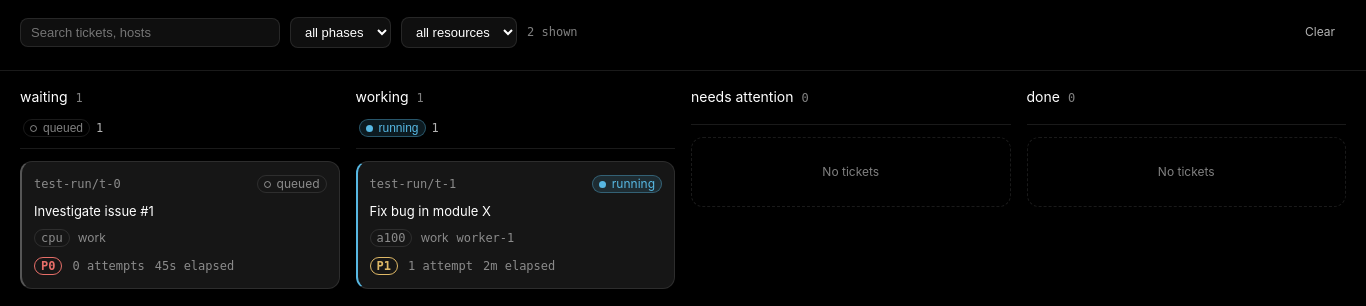
TicketBoard — filters offer what the run has › offers the resource classes seen on the tickets, and keeps them once one is picked
Expected: the text "Investigate issue #1" is shown, [34,203,154,219]
Select "a100" in the 2nd dropdown at (459, 32), box [401,16,517,48]
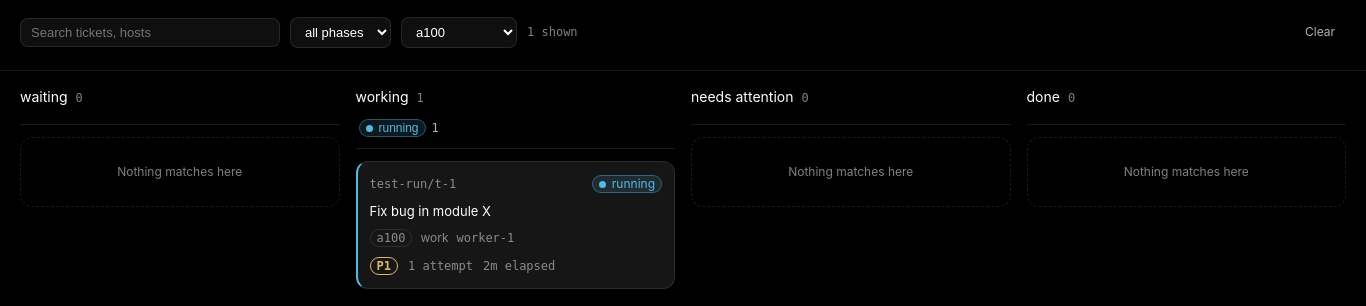
Now the text "Investigate issue #1" is gone
